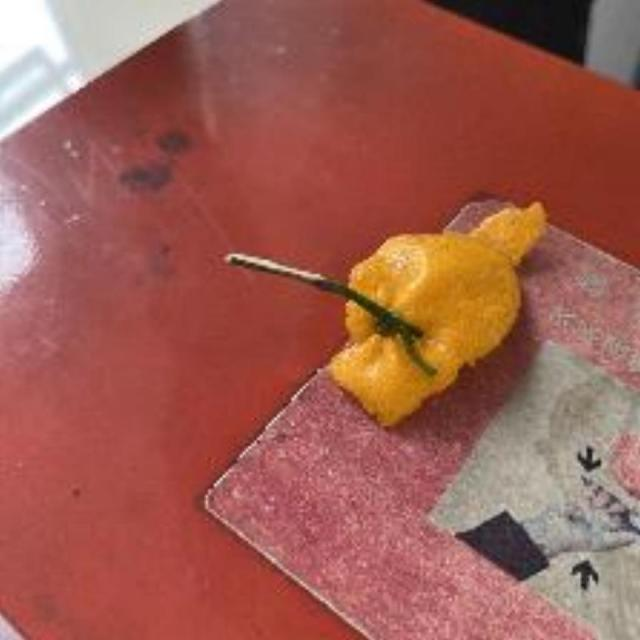orange-peel: (225, 191, 556, 430)
